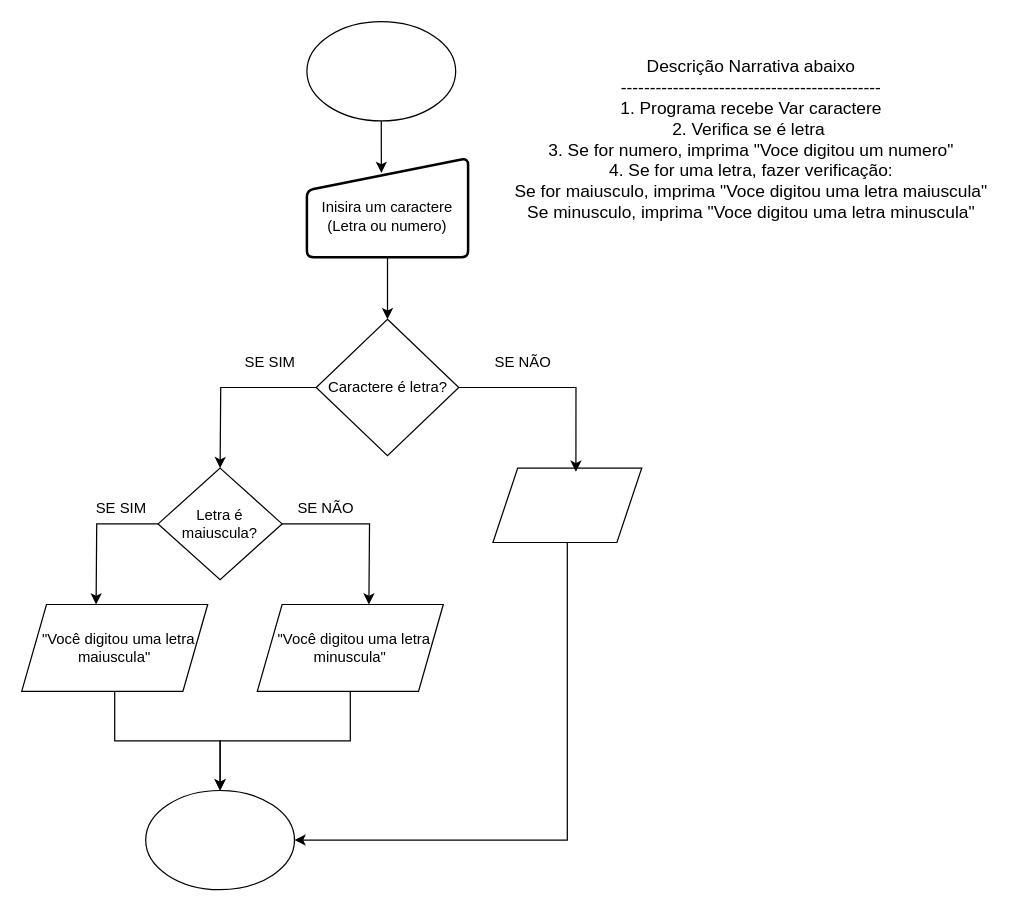
Some shapes in this 1025 by 911 pixel diagram are drawn without their labels. Each missing label, with the box of its shape:
Fim: (144, 789, 294, 890)
Inicio: (306, 20, 456, 121)
Voce digitou um número!: (492, 467, 642, 542)
